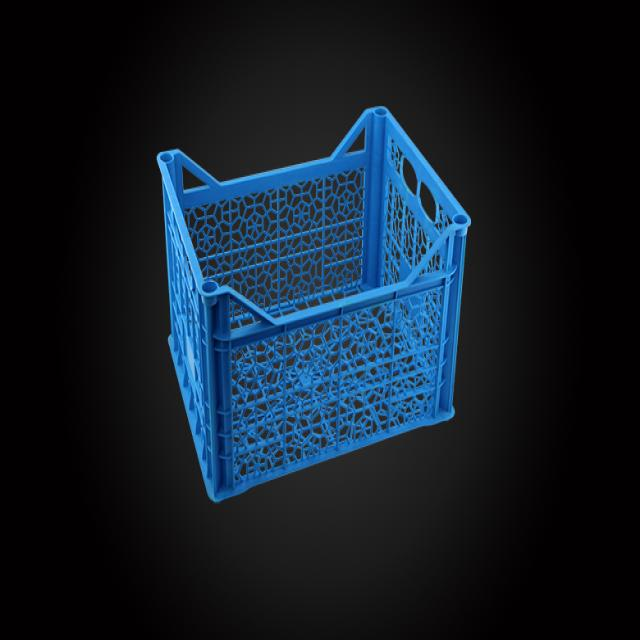basket: (143, 97, 501, 506)
